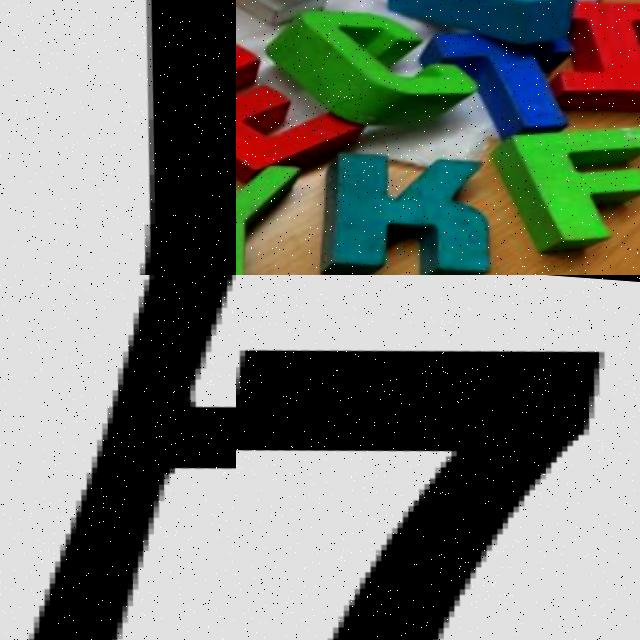7: (236, 309, 640, 640)
C: (259, 0, 477, 127)
E: (236, 37, 366, 174)
F: (472, 104, 640, 259)
H: (0, 275, 236, 640)
I: (549, 0, 640, 106)
K: (298, 135, 494, 273)
V: (373, 0, 582, 43)
Y: (236, 144, 315, 275)
